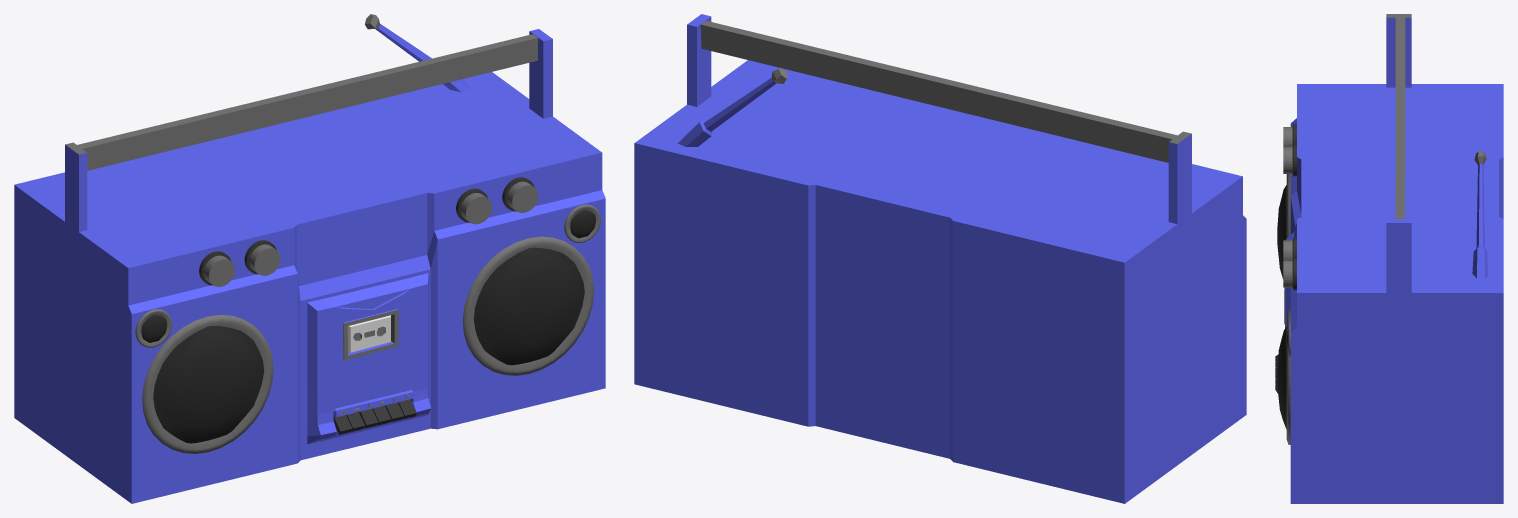
The model's file is Boombox.fbx.
3 renders of one model, left to right at view 1: azimuth 30°, elevation 25°; view 2: azimuth 150°, elevation 25°; view 3: azimuth 270°, elevation 25°, orthographic. The views are drawn at different scales.
Parts seen in each view (by area): view 1: Boombox; view 2: Boombox; view 3: Boombox.
Part boxes in pixels (x1,y1,x2,y2): Boombox: [14, 14, 605, 503]; Boombox: [634, 14, 1246, 503]; Boombox: [1275, 14, 1503, 503].
Size of the model in its own units: 81.06 by 53.56 by 37.36.
